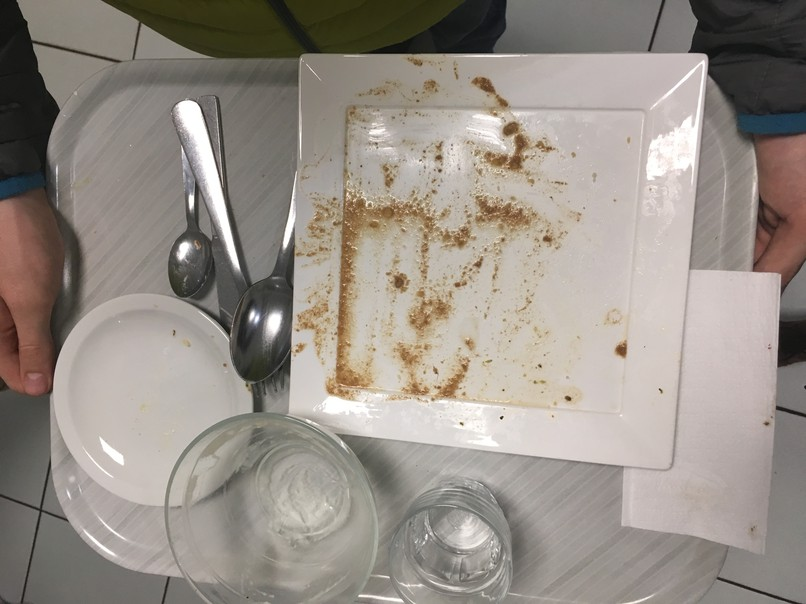cup: (385, 470, 521, 604)
cutlery: (141, 83, 302, 399)
trash: (621, 252, 771, 565)
